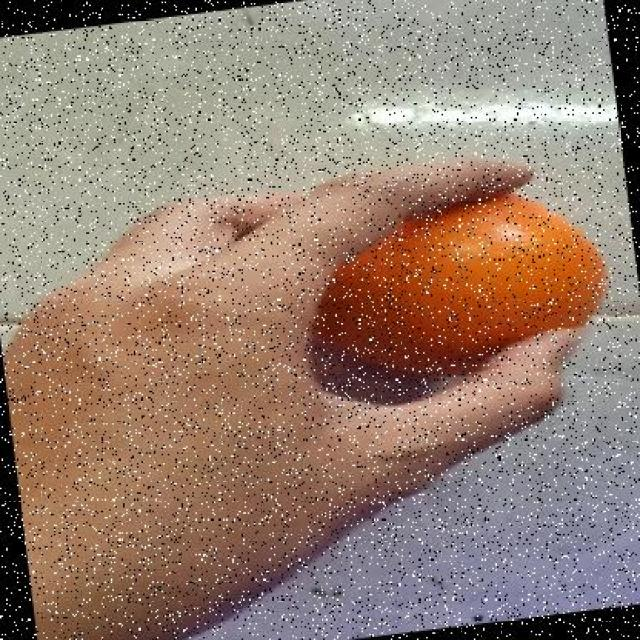Orange: (309, 188, 609, 382)
